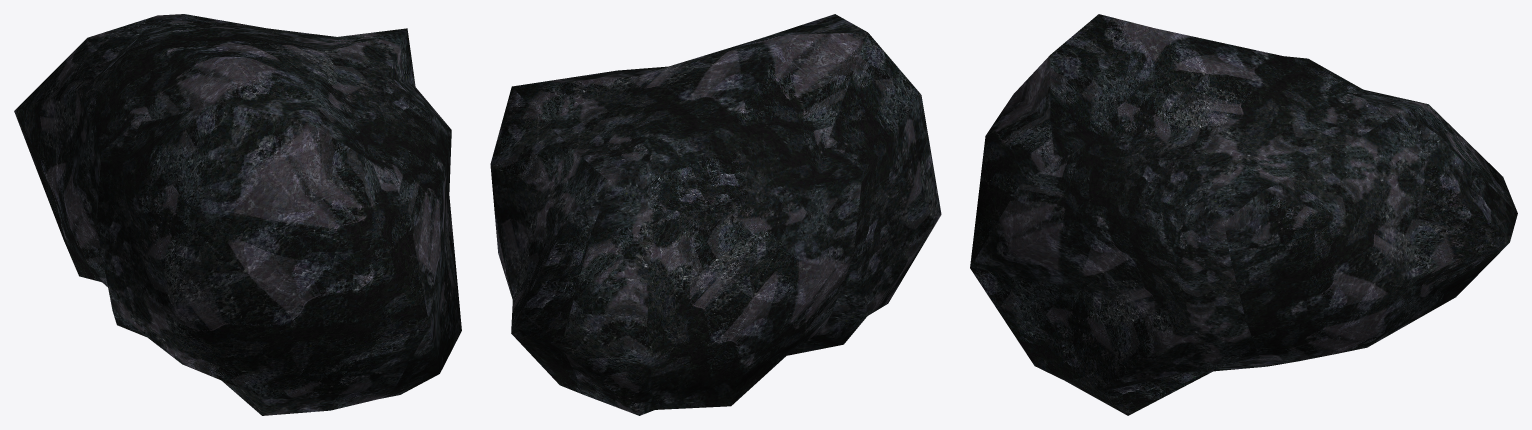
File: asteroid_obsidian_radial_s02_l0.fbx
The picture shows the model from 3 angles, left to right: view 1: azimuth 30°, elevation 25°; view 2: azimuth 150°, elevation 25°; view 3: azimuth 270°, elevation 25°; orthographic projection. The views are drawn at different scales.
Visible parts, largest first — view 1: mesh_node; view 2: mesh_node; view 3: mesh_node.
Boxes of the visible parts, bbox=[...] form: mesh_node: bbox=[14, 14, 461, 415]; mesh_node: bbox=[490, 14, 941, 415]; mesh_node: bbox=[970, 14, 1517, 415].
Size of the model in its own units: 4.38 by 4.14 by 6.61.
